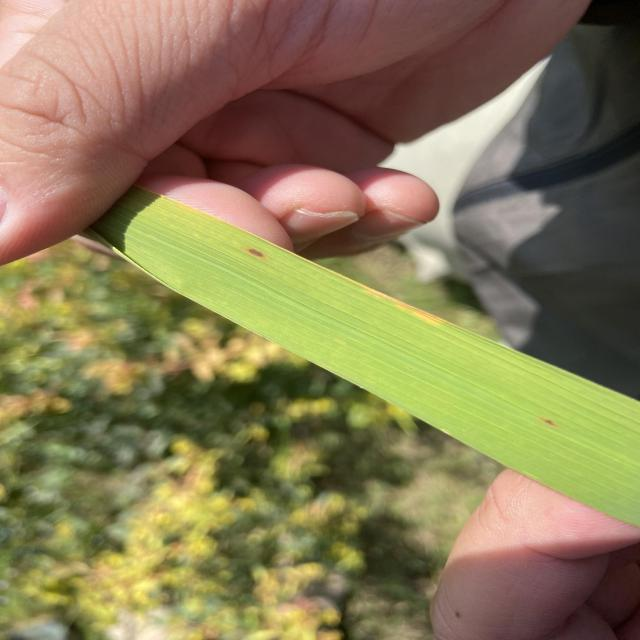Dom nau: (247, 249, 265, 258), (544, 419, 554, 425)
